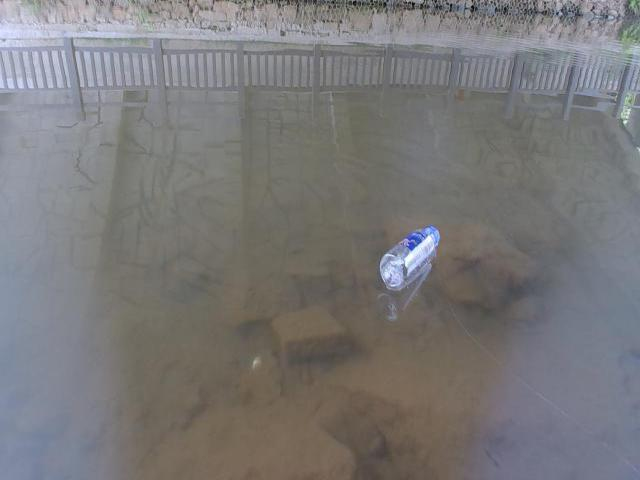Bottle: (370, 222, 452, 298)
